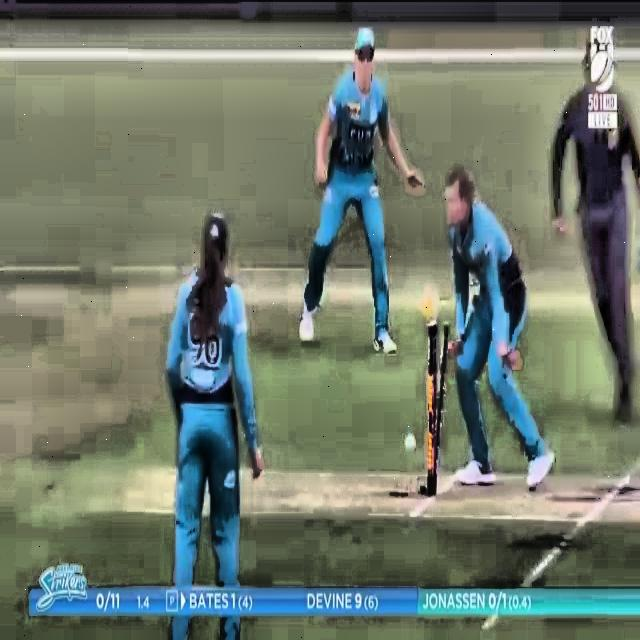Ball: (395, 424, 421, 460)
Dis_Wicket: (416, 292, 458, 491)
Pitch_Line: (480, 610, 498, 632)
